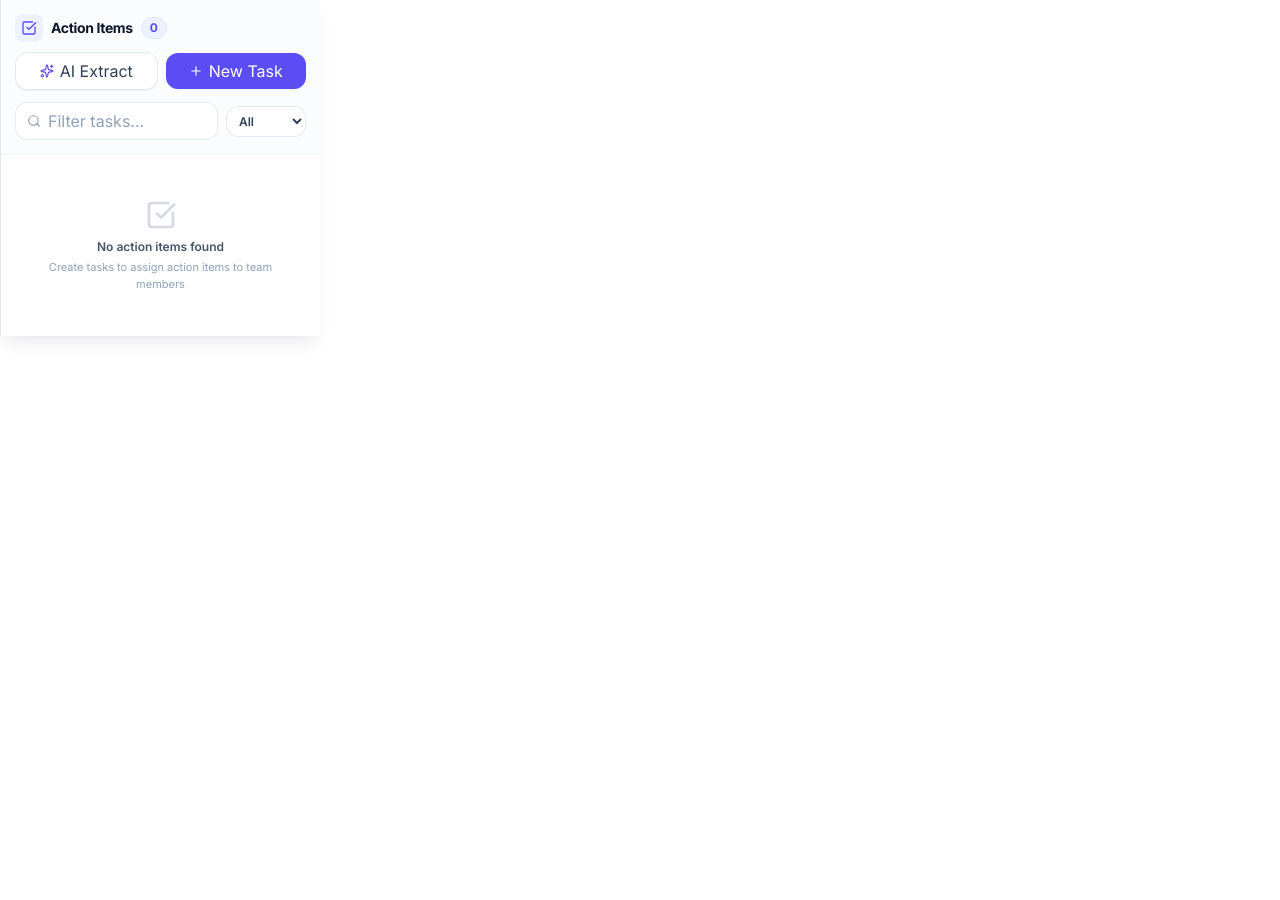
TaskPanel › opens create task modal
Expected: the text "No action items found" is shown, [97,239,224,254]
Click the button "New Task".
click(236, 71)  # box [166,53,306,89]
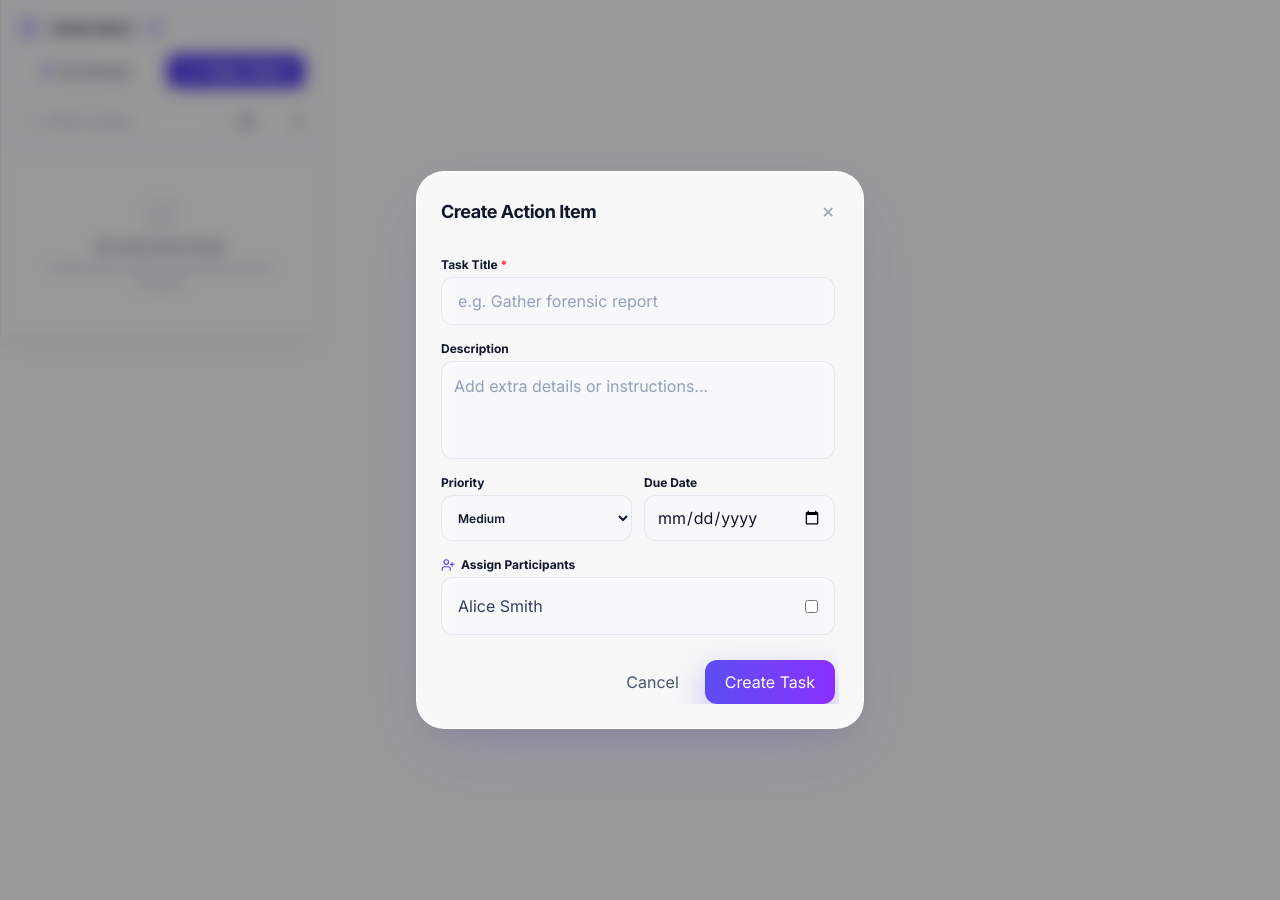
Expected: the heading "Create Action Item" is shown, [441,198,596,226]
